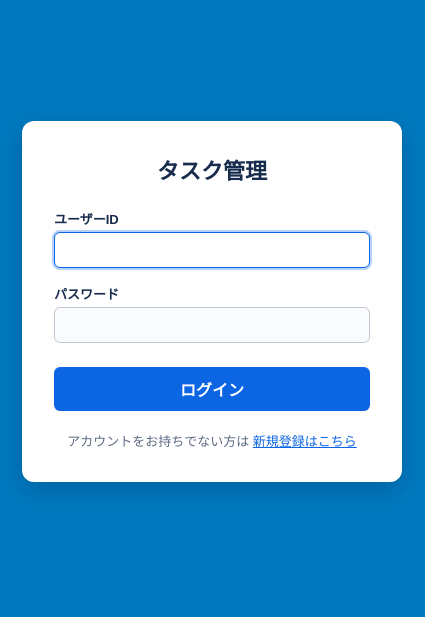
it: ブラウザの戻る（05 画面設計書 3章） › 新規登録画面へ移ると履歴を1つ積む
Click the button "新規登録はこちら" at [305, 440], box 253,430 -> 357,450
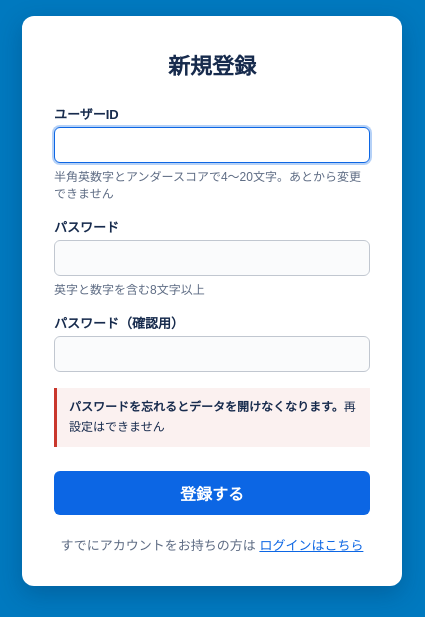
Check: the button "登録する" is shown, box 54,471 -> 370,515
